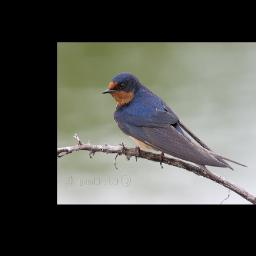Swallow: (101, 71, 248, 172)
